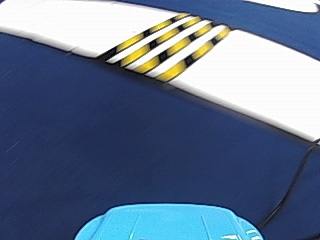bump: (102, 16, 212, 77)
